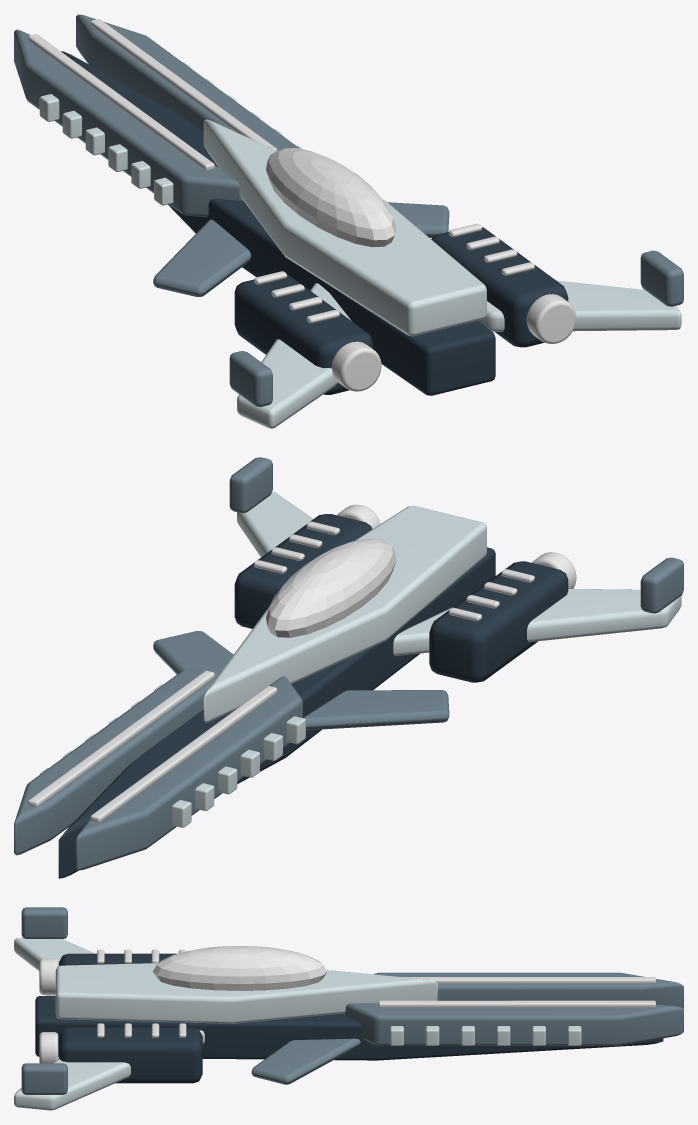
File: Needle.fbx
The picture shows the model from 3 angles, top to bottom: view 1: azimuth 30°, elevation 25°; view 2: azimuth 150°, elevation 25°; view 3: azimuth 270°, elevation 25°; orthographic projection. The views are drawn at different scales.
Parts seen in each view (by area): view 1: White dorsal shell, Needle central spar, Forward electromagnetic rail, Navigator canopy, Forward electromagnetic rail.001, Superconductor engine, Superconductor engine.001, Backward stabilizer.001, Backward stabilizer, Minimal forward canard, Purple rail conductor, Purple rail conductor.001 (+5 smaller); view 2: White dorsal shell, Forward electromagnetic rail, Needle central spar, Forward electromagnetic rail.001, Superconductor engine, Navigator canopy, Backward stabilizer, Minimal forward canard, Superconductor engine.001, Backward stabilizer.001, Purple rail conductor, Purple rail conductor.001 (+4 smaller); view 3: White dorsal shell, Forward electromagnetic rail.001, Needle central spar, Superconductor engine.001, Navigator canopy, Forward electromagnetic rail, Minimal forward canard.001, Backward stabilizer.001, Purple rail conductor.001, Purple rail conductor, Wingtip transceiver.001, Wingtip transceiver (+4 smaller).
Boxes of the visible parts, box(x1,y1,x2,y2) form: White dorsal shell: box(203, 119, 486, 336); Needle central spar: box(61, 51, 495, 395); Forward electromagnetic rail: box(14, 29, 242, 217); Navigator canopy: box(266, 148, 396, 247); Forward electromagnetic rail.001: box(76, 14, 299, 150); Superconductor engine: box(234, 275, 373, 394); Superconductor engine.001: box(431, 227, 568, 347); Backward stabilizer.001: box(478, 280, 681, 331); Backward stabilizer: box(237, 283, 351, 428); Minimal forward canard: box(153, 219, 251, 296); Purple rail conductor: box(28, 34, 214, 170); Purple rail conductor.001: box(90, 19, 277, 150); White dorsal shell: box(203, 505, 486, 722); Forward electromagnetic rail: box(76, 676, 302, 870); Needle central spar: box(58, 547, 495, 878); Forward electromagnetic rail.001: box(14, 666, 224, 855); Superconductor engine: box(429, 561, 568, 682); Navigator canopy: box(266, 538, 396, 637); Backward stabilizer: box(393, 588, 681, 656); Minimal forward canard: box(303, 690, 449, 730); Superconductor engine.001: box(234, 514, 371, 628); Backward stabilizer.001: box(237, 491, 313, 557); Purple rail conductor: box(90, 686, 277, 822); Purple rail conductor.001: box(28, 670, 214, 807); White dorsal shell: box(55, 963, 437, 1023); Forward electromagnetic rail.001: box(344, 1003, 683, 1045); Needle central spar: box(35, 995, 663, 1060); Superconductor engine.001: box(59, 1027, 202, 1083); Navigator canopy: box(153, 946, 327, 990); Forward electromagnetic rail: box(374, 972, 683, 1008); Minimal forward canard.001: box(251, 1038, 360, 1084); Backward stabilizer.001: box(14, 1030, 204, 1110); Purple rail conductor.001: box(378, 1000, 655, 1007); Purple rail conductor: box(403, 977, 655, 983); Wingtip transceiver.001: box(21, 1063, 67, 1094); Wingtip transceiver: box(21, 907, 67, 938).
Size of the model in its own units: 282 by 78 by 491.
